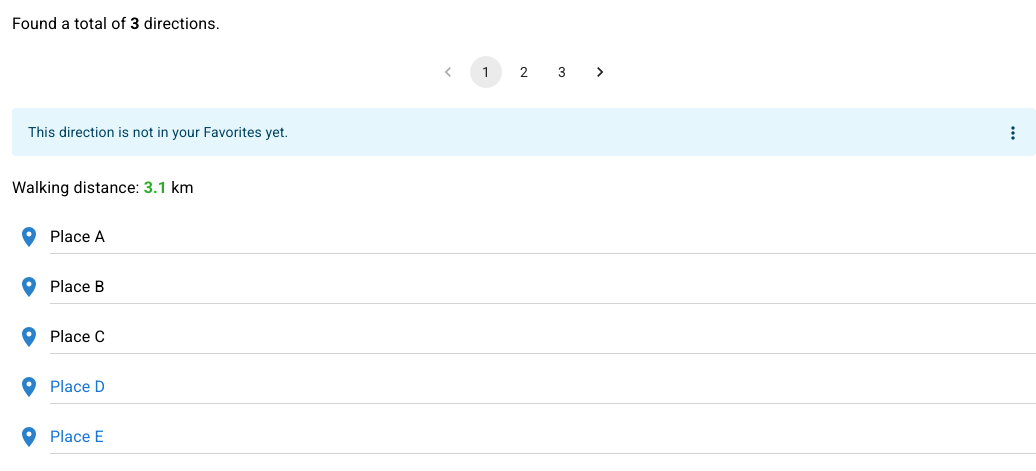
Test: <ResultDirecsContent /> › pagination › should show next direction upon click on Next
This screenshot has width=1036, height=471.
Expected: the text "Direction B" is not shown
Click the button named "Go to next page": (600, 72) [584, 56, 616, 88]
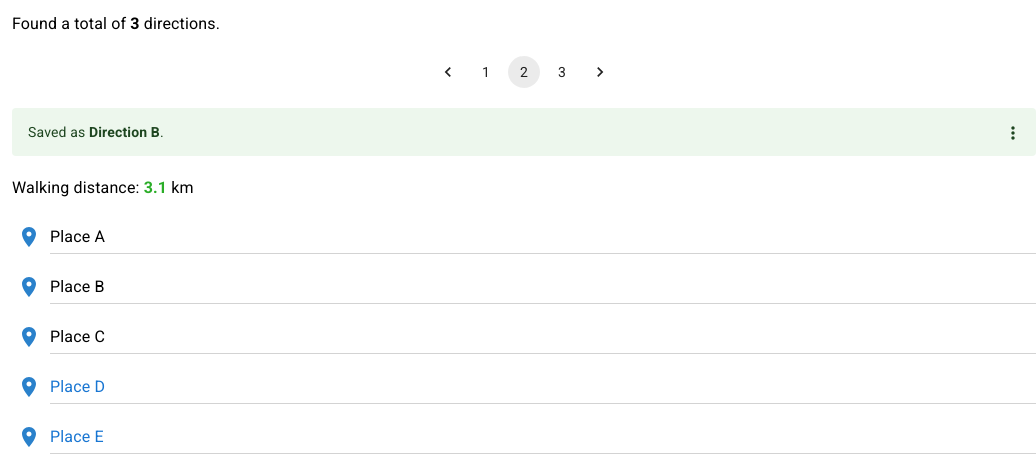
Result: the text "Direction B" is shown at [89, 124, 160, 140]
